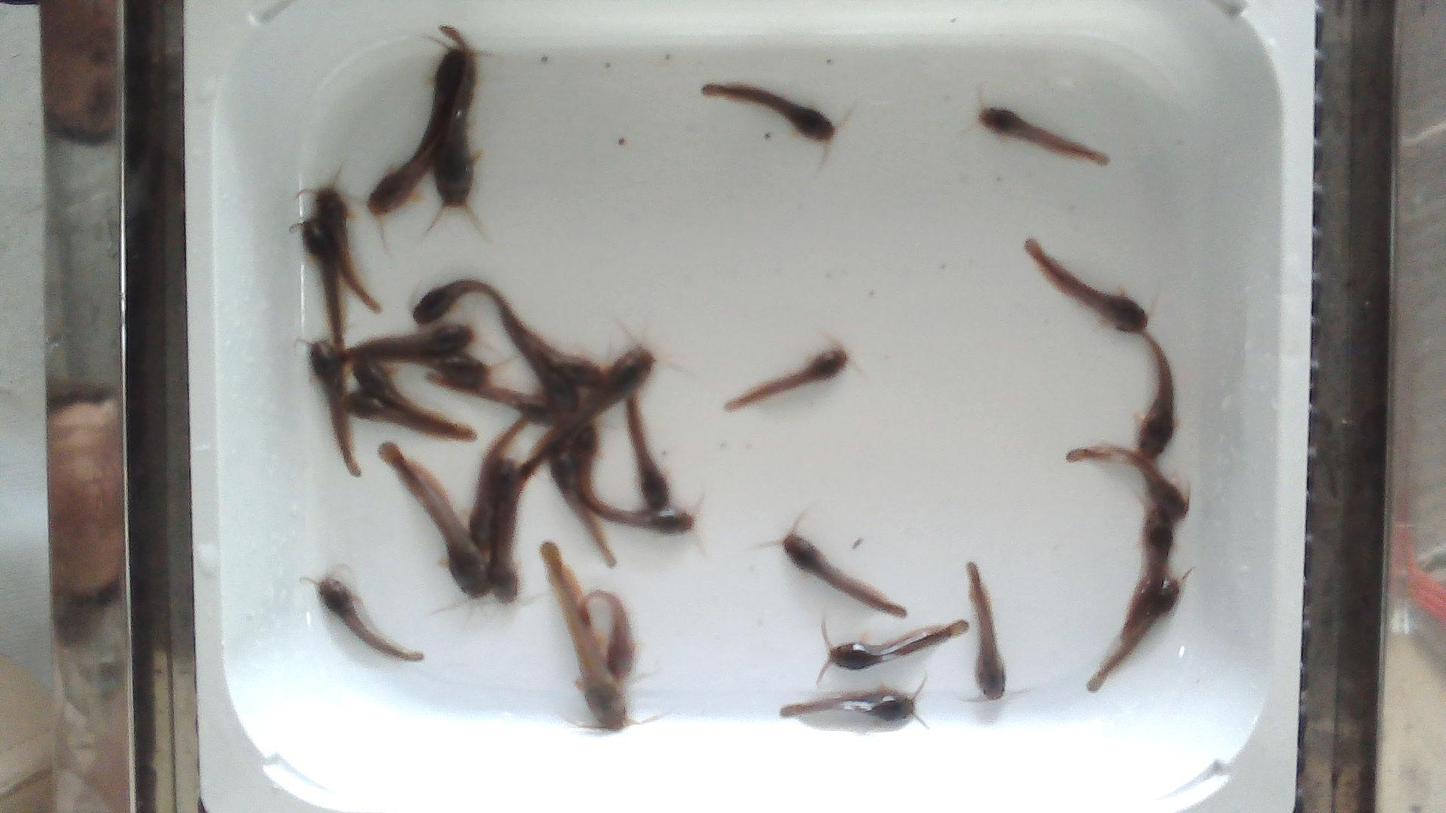lele: (522, 346, 654, 485), (380, 442, 491, 596), (541, 544, 627, 732), (1025, 239, 1147, 332), (1084, 580, 1183, 692), (782, 531, 906, 617), (355, 360, 471, 439), (366, 111, 453, 215), (317, 576, 423, 660), (1070, 444, 1190, 516), (467, 419, 528, 557), (725, 343, 847, 410), (702, 83, 835, 143), (433, 29, 477, 206), (318, 190, 381, 312), (978, 107, 1107, 164), (505, 320, 582, 414), (578, 472, 694, 534), (827, 620, 969, 670), (551, 449, 612, 563), (406, 48, 465, 164), (571, 425, 644, 516), (512, 317, 605, 386), (300, 220, 349, 350), (343, 391, 465, 442), (1123, 512, 1173, 635), (431, 382, 565, 427), (309, 343, 355, 472), (967, 563, 1005, 699), (371, 354, 495, 392), (1138, 335, 1174, 463), (585, 590, 635, 680), (411, 282, 512, 326), (784, 690, 918, 723), (343, 327, 475, 360), (489, 461, 519, 605), (630, 402, 670, 507)
